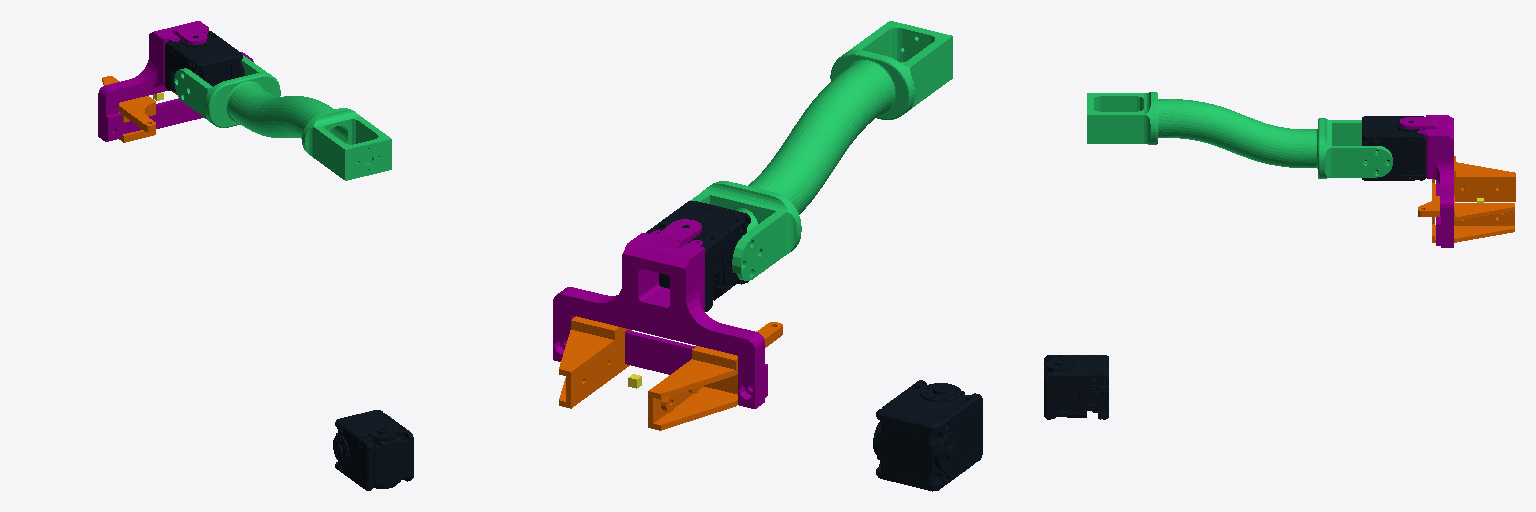
The robot description file, URDF, robot "archie":
<?xml version="1.0" ?>
<!-- =================================================================================== -->
<!-- |    This document was autogenerated by xacro from manipulator_main.xacro         | -->
<!-- |    EDITING THIS FILE BY HAND IS NOT RECOMMENDED                                 | -->
<!-- =================================================================================== -->
<robot name="archie">
  <link name="world"/>
  <!-- Fix robot to Gazebo world -->
  <joint name="fixed" type="fixed">
    <parent link="world"/>
    <child link="base_link"/>
    <origin rpy="0 0 0" xyz="0 0 0"/>
  </joint>
  <link name="base_link">
    <inertial>
      <origin rpy="0 0 0" xyz="5.34102915090199E-06 0.00149611119634719 0.027324411040906"/>
      <mass value="0.399055600639488"/>
      <inertia ixx="0.101795155" ixy="-0.0000106" ixz="-0.000004255" iyy="0.1049705" iyz="-0.0025166" izz="0.113806134"/>
    </inertial>
    <visual>
      <origin rpy="0 0 0" xyz="0 0 0"/>
      <geometry>
        <mesh filename="package://archie_description/meshes/base_link.STL"/>
      </geometry>
      <material name="">
        <color rgba="0.0549 0.4 0.3333 1.0"/>
      </material>
    </visual>
    <collision>
      <origin rpy="0 0 0" xyz="0 0 0"/>
      <geometry>
        <mesh filename="package://archie_description/meshes/base_link.STL"/>
      </geometry>
    </collision>
  </link>
  <link name="link_1">
    <inertial>
      <origin rpy="0 0 0" xyz="0.000495971250250975 -0.0119998499605218 0.0192958783777655"/>
      <mass value="0.102"/>
      <inertia ixx="0.004708" ixy="0.0000362" ixz="-0.0000863" iyy="0.0034761" iyz="-0.0013745" izz="0.0024097"/>
    </inertial>
    <visual>
      <origin rpy="0 0 0" xyz="0 0 0"/>
      <geometry>
        <mesh filename="package://archie_description/meshes/link_1.STL"/>
      </geometry>
      <material name="">
        <color rgba="0.09019 0.12549 0.164706 1.0"/>
      </material>
    </visual>
    <collision>
      <origin rpy="0 0 0" xyz="0 0 0"/>
      <geometry>
        <mesh filename="package://archie_description/meshes/link_1.STL"/>
      </geometry>
    </collision>
  </link>
  <joint name="joint_1" type="revolute">
    <origin rpy="0 0 3.14159265358979" xyz="0 0 0.07"/>
    <parent link="base_link"/>
    <child link="link_1"/>
    <axis xyz="0 0 1"/>
    <limit effort="300" lower="-1.57" upper="1.57" velocity="3"/>
  </joint>
  <link name="link_2">
    <inertial>
      <origin rpy="0 0 0" xyz="-0.00375223885247785 0.0986651693444381 3.09623365033344E-07"/>
      <mass value="0.102283747087815"/>
      <inertia ixx="0.125060728" ixy="0.017650428" ixz="0.000000038" iyy="0.0057453" iyz="-0.00000199" izz="0.1262878"/>
    </inertial>
    <visual>
      <origin rpy="0 0 0" xyz="-0.004 0.0012 0"/>
      <geometry>
        <mesh filename="package://archie_description/meshes/link_2.STL"/>
      </geometry>
      <material name="">
        <color rgba="0.1804 0.8 0.4431 1.0"/>
      </material>
    </visual>
    <collision>
      <origin rpy="0 0 0" xyz="-0.004 0.0012 0"/>
      <geometry>
        <mesh filename="package://archie_description/meshes/link_2.STL"/>
      </geometry>
    </collision>
  </link>
  <joint name="joint_2" type="revolute">
    <origin rpy="1.5707963267949 0 -1.5707963267949" xyz="0 -0.024 0.0188"/>
    <parent link="link_1"/>
    <child link="link_2"/>
    <axis xyz="0 0 1"/>
    <limit effort="300" lower="-0.78" upper="0.78" velocity="3"/>
  </joint>
  <link name="link_3">
    <inertial>
      <origin rpy="0 0 0" xyz="0.07998503185917 0.000495971402698678 0.000495878377765527"/>
      <mass value="0.102"/>
      <inertia ixx="0.004708" ixy="0.0000362" ixz="-0.0000863" iyy="0.0034761" iyz="-0.0013745" izz="0.0024097"/>
    </inertial>
    <visual>
      <origin rpy="0 0 0" xyz="0.006 0 0"/>
      <geometry>
        <mesh filename="package://archie_description/meshes/link_3.STL"/>
      </geometry>
      <material name="">
        <color rgba="0.09019 0.12549 0.164706 1.0"/>
      </material>
    </visual>
    <collision>
      <origin rpy="0 0 0" xyz="0.006 0 0"/>
      <geometry>
        <mesh filename="package://archie_description/meshes/link_3.STL"/>
      </geometry>
    </collision>
  </link>
  <joint name="joint_3" type="revolute">
    <origin rpy="0 0 1.5707963267949" xyz="-0.024 0.195 0"/>
    <parent link="link_2"/>
    <child link="link_3"/>
    <axis xyz="0 0 1"/>
    <limit effort="300" lower="-1.15" upper="2" velocity="3"/>
  </joint>
  <link name="link_4">
    <inertial>
      <origin rpy="0 0 0" xyz="-0.0140962967782675 4.33165647224752E-07 0.105115025906125"/>
      <mass value="0.105070462984836"/>
      <inertia ixx="0.1573144" ixy="0.0195671" ixz="0.0000000040" iyy="0.0051205" iyz="0.0000001350" izz="0.1589789"/>
    </inertial>
    <visual>
      <origin rpy="0 0 0" xyz="0 0 0"/>
      <geometry>
        <mesh filename="package://archie_description/meshes/link_4.STL"/>
      </geometry>
      <material name="">
        <color rgba="0.1804 0.8 0.4431 1.0"/>
      </material>
    </visual>
    <collision>
      <origin rpy="0 0 0" xyz="0 0 0"/>
      <geometry>
        <mesh filename="package://archie_description/meshes/link_4.STL"/>
      </geometry>
    </collision>
  </link>
  <joint name="joint_4" type="revolute">
    <origin rpy="1.5707963267949 0 0" xyz="0.0200000000000001 -0.02 0"/>
    <parent link="link_3"/>
    <child link="link_4"/>
    <axis xyz="0 0 1"/>
    <limit effort="200" lower="-3.14" upper="3.14" velocity="3"/>
  </joint>
  <link name="link_5">
    <inertial>
      <origin rpy="0 0 0" xyz="-0.00570412111171636 -0.00950015024510067 0.000495971250250971"/>
      <mass value="0.0982"/>
      <inertia ixx="0.004708" ixy="0.0000362" ixz="-0.0000863" iyy="0.0034761" iyz="-0.0013745" izz="0.0024097"/>
    </inertial>
    <visual>
      <origin rpy="0 0 0" xyz="0.006 -0.0025 0"/>
      <geometry>
        <mesh filename="package://archie_description/meshes/link_5.STL"/>
      </geometry>
      <material name="">
        <color rgba="0.09019 0.12549 0.164706 1.0"/>
      </material>
    </visual>
    <collision>
      <origin rpy="0 0 0" xyz="0.006 -0.0025 0"/>
      <geometry>
        <mesh filename="package://archie_description/meshes/link_5.STL"/>
      </geometry>
    </collision>
  </link>
  <joint name="joint_5" type="revolute">
    <origin rpy="-1.5707963267949 0 0" xyz="-0.02562 0 0.2075"/>
    <parent link="link_4"/>
    <child link="link_5"/>
    <axis xyz="0 0 1"/>
    <limit effort="200" lower="-1.15" upper="2" velocity="3"/>
  </joint>
  <link name="link_6">
    <inertial>
      <origin rpy="0 0 0" xyz="0.00150005999207131 2.13388833428252E-08 0.0547308096922248"/>
      <mass value="0.000147831569305485"/>
      <inertia ixx="3.66048153630127E-09" ixy="1.57772181044196E-25" ixz="1.17223439029209E-23" iyy="3.66048153630127E-09" iyz="8.32319653746676E-25" izz="7.31480342388148E-09"/>
    </inertial>
    <visual>
      <origin rpy="0 0 0" xyz="0 0 0"/>
      <geometry>
        <mesh filename="package://archie_description/meshes/link_6.STL"/>
      </geometry>
      <material name="">
        <color rgba="0.729411764705882 0.356862745098039 0.0235294117647059 1"/>
      </material>
    </visual>
    <collision>
      <origin rpy="0 0 0" xyz="0 0 0"/>
      <geometry>
        <mesh filename="package://archie_description/meshes/link_6.STL"/>
      </geometry>
    </collision>
  </link>
  <joint name="joint_6" type="revolute">
    <origin rpy="1.5707963267949 0 -1.5707963267949" xyz="-0.02 -0.024 0"/>
    <parent link="link_5"/>
    <child link="link_6"/>
    <axis xyz="0 0 1"/>
    <limit effort="200" lower="-3.14" upper="3.14" velocity="3"/>
  </joint>
  <!-- transmission list -->
  <transmission name="link_1_trans">
    <type>transmission_interface/SimpleTransmission</type>
    <joint name="joint_1">
      <hardwareInterface>hardware_interface/PositionJointInterface</hardwareInterface>
    </joint>
    <actuator name="link_1_motor">
      <hardwareInterface>hardware_interface/PositionJointInterface</hardwareInterface>
      <mechanicalReduction>1</mechanicalReduction>
    </actuator>
  </transmission>
  <transmission name="link_2_trans">
    <type>transmission_interface/SimpleTransmission</type>
    <joint name="joint_2">
      <hardwareInterface>hardware_interface/PositionJointInterface</hardwareInterface>
    </joint>
    <actuator name="link_2_motor">
      <hardwareInterface>hardware_interface/PositionJointInterface</hardwareInterface>
      <mechanicalReduction>1</mechanicalReduction>
    </actuator>
  </transmission>
  <transmission name="link_3_trans">
    <type>transmission_interface/SimpleTransmission</type>
    <joint name="joint_3">
      <hardwareInterface>hardware_interface/PositionJointInterface</hardwareInterface>
    </joint>
    <actuator name="link_3_motor">
      <hardwareInterface>hardware_interface/PositionJointInterface</hardwareInterface>
      <mechanicalReduction>1</mechanicalReduction>
    </actuator>
  </transmission>
  <transmission name="link_4_trans">
    <type>transmission_interface/SimpleTransmission</type>
    <joint name="joint_4">
      <hardwareInterface>hardware_interface/PositionJointInterface</hardwareInterface>
    </joint>
    <actuator name="link_4_motor">
      <hardwareInterface>hardware_interface/PositionJointInterface</hardwareInterface>
      <mechanicalReduction>1</mechanicalReduction>
    </actuator>
  </transmission>
  <transmission name="link_5_trans">
    <type>transmission_interface/SimpleTransmission</type>
    <joint name="joint_5">
      <hardwareInterface>hardware_interface/PositionJointInterface</hardwareInterface>
    </joint>
    <actuator name="link_5_motor">
      <hardwareInterface>hardware_interface/PositionJointInterface</hardwareInterface>
      <mechanicalReduction>1</mechanicalReduction>
    </actuator>
  </transmission>
  <transmission name="link_6_trans">
    <type>transmission_interface/SimpleTransmission</type>
    <joint name="joint_6">
      <hardwareInterface>hardware_interface/PositionJointInterface</hardwareInterface>
    </joint>
    <actuator name="link_6_motor">
      <hardwareInterface>hardware_interface/PositionJointInterface</hardwareInterface>
      <mechanicalReduction>1</mechanicalReduction>
    </actuator>
  </transmission>
  <!-- end of transmission list -->
  <!-- Gazebo-specific link properties -->
  <gazebo reference="link_1">
    <selfCollide>true</selfCollide>
    <material>Gazebo/Black</material>
  </gazebo>
  <gazebo reference="link_2">
    <selfCollide>true</selfCollide>
    <material>Gazebo/Orange</material>
  </gazebo>
  <gazebo reference="link_3">
    <selfCollide>true</selfCollide>
    <material>Gazebo/Black</material>
  </gazebo>
  <gazebo reference="link_4">
    <selfCollide>true</selfCollide>
    <material>Gazebo/Orange</material>
  </gazebo>
  <gazebo reference="link_5">
    <selfCollide>true</selfCollide>
    <material>Gazebo/Black</material>
  </gazebo>
  <gazebo reference="link_6">
    <selfCollide>true</selfCollide>
  </gazebo>
  <gazebo reference="garra1_joint">
    <selfCollide>true</selfCollide>
  </gazebo>
  <!-- ros_control plugin -->
  <gazebo>
    <plugin filename="libgazebo_ros_control.so" name="control">
      <robotNamespace>/</robotNamespace>
      <robotSimType>gazebo_ros_control/DefaultRobotHWSim</robotSimType>
    </plugin>
  </gazebo>
  <joint name="garra_joint" type="fixed">
    <parent link="link_6"/>
    <child link="base_garra"/>
    <origin rpy="0 0 1.57" xyz="0 0 0"/>
  </joint>
  <link name="base_garra">
    <inertial>
      <origin rpy="0 0 0" xyz="2.434E-05 -0.022273 -0.0046894"/>
      <mass value="0.04363"/>
      <inertia ixx="1.2763E-05" ixy="3.9172E-12" ixz="-3.6866E-11" iyy="4.6822E-05" iyz="2.0165E-06" izz="3.7148E-05"/>
    </inertial>
    <visual>
      <origin rpy="0 0 0" xyz="0 0 0"/>
      <geometry>
        <mesh filename="package://archie_description/meshes/gripper/base_garra.STL"/>
      </geometry>
      <material name="">
        <color rgba="0.6274509803921569 0.01568627450980392 0.596078431372549 1.0"/>
      </material>
    </visual>
    <collision>
      <origin rpy="0 0 0" xyz="0 0 0"/>
      <geometry>
        <mesh filename="package://archie_description/meshes/gripper/base_garra.STL"/>
      </geometry>
    </collision>
  </link>
  <link name="garra1_link">
    <inertial>
      <origin rpy="0 0 0" xyz="-0.00071849 0.018325 -0.00038068"/>
      <mass value="0.012915"/>
      <inertia ixx="4.5614E-06" ixy="-7.5789E-07" ixz="-1.3068E-07" iyy="1.565E-06" iyz="-4.7014E-07" izz="4.3774E-06"/>
    </inertial>
    <visual>
      <origin rpy="0 0 0" xyz="0 0 0"/>
      <geometry>
        <mesh filename="package://archie_description/meshes/gripper/garra1_link.STL"/>
      </geometry>
      <material name="">
        <color rgba="0.9098 0.44314 0.031373 1"/>
      </material>
    </visual>
    <collision>
      <origin rpy="0 0 0" xyz="0 0 0"/>
      <geometry>
        <mesh filename="package://archie_description/meshes/gripper/garra1_link.STL"/>
      </geometry>
    </collision>
  </link>
  <joint name="garra1_joint" type="prismatic">
    <origin rpy="0 0 0" xyz="0.043 -0.009 0.008"/>
    <parent link="base_garra"/>
    <child link="garra1_link"/>
    <axis xyz="-1 0 0"/>
    <limit effort="100" lower="0" upper="0.02" velocity="0"/>
  </joint>
  <link name="garra2_link">
    <inertial>
      <origin rpy="0 0 0" xyz="-0.00071849 0.018325 -0.00038068"/>
      <mass value="0.012915"/>
      <inertia ixx="4.5614E-06" ixy="-7.5789E-07" ixz="-1.3068E-07" iyy="1.565E-06" iyz="-4.7014E-07" izz="4.3774E-06"/>
    </inertial>
    <visual>
      <origin rpy="0 0 0" xyz="0 0 0"/>
      <geometry>
        <mesh filename="package://archie_description/meshes/gripper/garra2_link.STL"/>
      </geometry>
      <material name="">
        <color rgba="0.9098 0.44314 0.031373 1"/>
      </material>
    </visual>
    <collision>
      <origin rpy="0 0 0" xyz="0 0 0"/>
      <geometry>
        <mesh filename="package://archie_description/meshes/gripper/garra2_link.STL"/>
      </geometry>
    </collision>
  </link>
  <joint name="garra2_joint" type="prismatic">
    <origin rpy="0 0 0" xyz="-0.043 0.0125 0.008"/>
    <parent link="base_garra"/>
    <child link="garra2_link"/>
    <axis xyz="-1 0 0"/>
    <limit effort="100" lower="-0.02" upper="0" velocity="0"/>
    <mimic joint="garra1_joint" multiplier="-1" offset="0"/>
  </joint>
  <link name="end_effect_point">
    <visual>
      <origin rpy="0 0 0" xyz="0 0 0"/>
      <geometry>
        <box size="0.005 0.005 0.005"/>
      </geometry>
    </visual>
    <inertial>
      <origin rpy="0 0 0" xyz="0.0 0.0 0.0"/>
      <mass value="0.001"/>
      <inertia ixx="1.0" ixy="0.0" ixz="0.0" iyy="1.0" iyz="0.0" izz="1.0"/>
    </inertial>
  </link>
  <!--end effect point -->
  <joint name="end_effect_point" type="fixed">
    <origin rpy="3.14 0 0" xyz="0 -0.05 0.023"/>
    <parent link="base_garra"/>
    <child link="end_effect_point"/>
  </joint>
  <transmission name="garra1_trans">
    <type>transmission_interface/SimpleTransmission</type>
    <joint name="garra1_joint">
      <hardwareInterface>hardware_interface/PositionJointInterface</hardwareInterface>
    </joint>
    <actuator name="garra1_motor">
      <hardwareInterface>hardware_interface/PositionJointInterface</hardwareInterface>
      <mechanicalReduction>1</mechanicalReduction>
    </actuator>
  </transmission>
  <gazebo>
    <plugin filename="libroboticsgroup_gazebo_mimic_joint_plugin.so" name="mimic_joint_plugin">
      <joint>garra1_joint</joint>
      <mimicJoint>garra2_joint</mimicJoint>
      <multiplier>-1</multiplier>
      <offset>0</offset>
    </plugin>
  </gazebo>
</robot>

--- Render facts (derived) ---
3 views of the same robot in one strip: view 1: azimuth 30°, elevation 25°; view 2: azimuth 150°, elevation 25°; view 3: azimuth 270°, elevation 25° (orthographic).
Model archie with 12 links and 11 joints (6 revolute, 2 prismatic, 3 fixed), rooted at world, posed all joints at 0.
Visible links, largest first — view 1: link_4, link_1, base_garra, link_5, garra2_link; view 2: link_4, base_garra, link_1, garra2_link, garra1_link, link_5; view 3: link_4, link_1, base_garra, link_5, garra1_link, garra2_link.
Link boxes in pixels (box(x1,y1,x2,y2)): link_4: box(174, 55, 391, 180); link_1: box(333, 410, 413, 490); base_garra: box(98, 21, 253, 141); link_5: box(165, 31, 244, 91); garra2_link: box(102, 76, 155, 142); link_4: box(690, 21, 952, 280); base_garra: box(553, 219, 767, 408); link_1: box(873, 380, 982, 491); garra2_link: box(648, 322, 782, 430); garra1_link: box(559, 316, 631, 408); link_5: box(646, 201, 750, 311); link_4: box(1087, 92, 1392, 178); link_1: box(1044, 355, 1108, 419); base_garra: box(1400, 115, 1453, 247); link_5: box(1362, 116, 1425, 180); garra1_link: box(1418, 196, 1514, 242); garra2_link: box(1432, 156, 1515, 201).
Size in the robot's own frame: 0.1152 by 0.338 by 0.2493 metres.
Meshes: 10 distinct files referenced, 7 mesh visuals loaded (7 binary STL); not drawn: 3 (reference not matched to a file when rendering).
